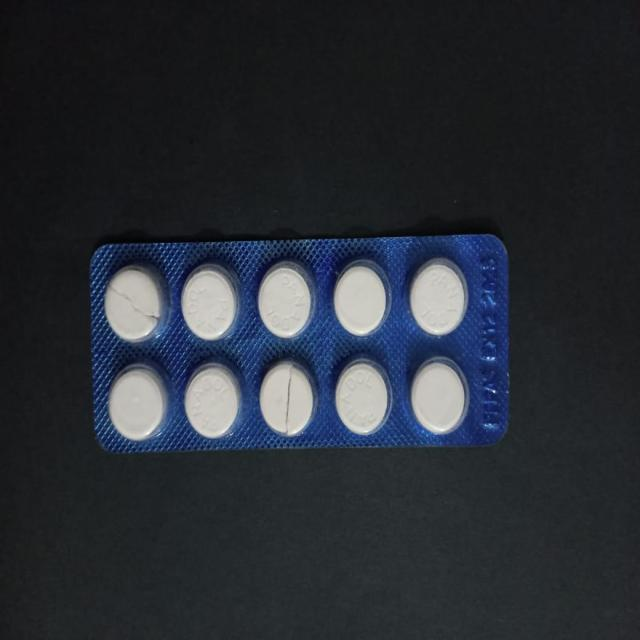defect: (103, 259, 170, 345), (259, 358, 320, 440)
